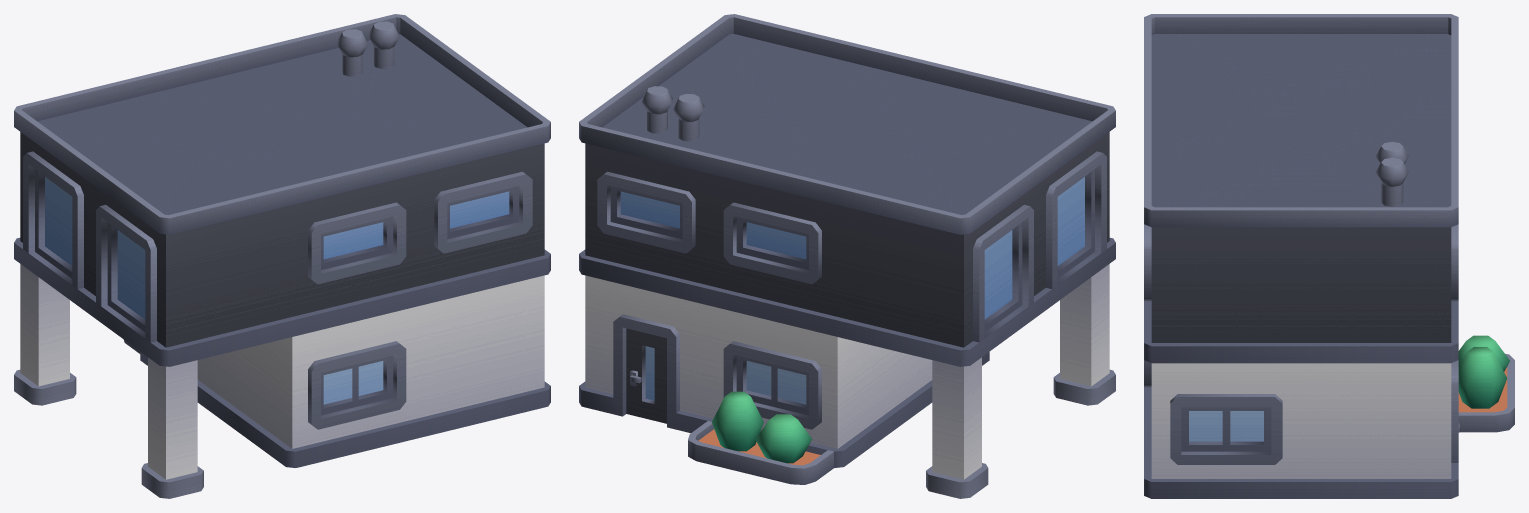
The model's file is Building12.glb.
The picture shows the model from 3 angles, left to right: view 1: azimuth 30°, elevation 25°; view 2: azimuth 150°, elevation 25°; view 3: azimuth 270°, elevation 25°; orthographic projection. The views are drawn at different scales.
Visible parts, largest first — view 1: building-type-p; view 2: building-type-p; view 3: building-type-p.
Boxes of the visible parts, x1,y1,x2,y2 form: building-type-p: (14,14,550,498); building-type-p: (579,14,1115,498); building-type-p: (1144,14,1514,498).
Bounding box in the file's own units: 1.24 × 0.918 × 0.99.
Materials: 1 (1 with a texture image).
